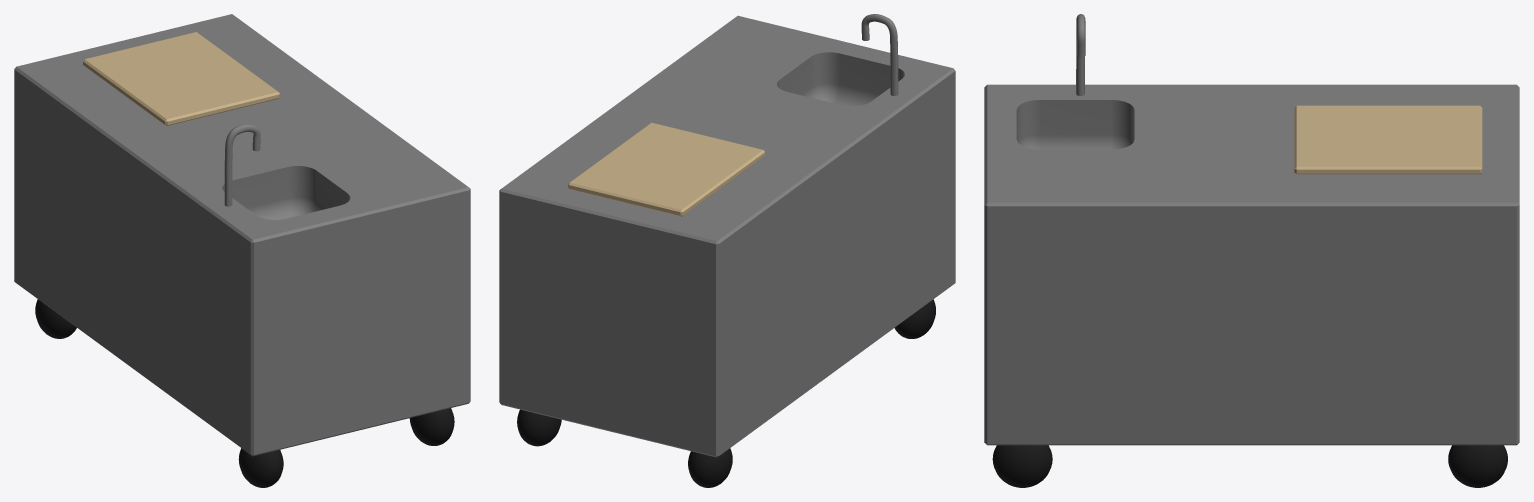
Rendered from Metal_counter.fbx.
3 views of the same model, side by side, from view 1: azimuth 30°, elevation 25°; view 2: azimuth 150°, elevation 25°; view 3: azimuth 270°, elevation 25° (orthographic). The views are drawn at different scales.
Parts seen in each view (by area): view 1: pCube3, pCube4, pSphere4, pSphere1, extrudedSurface1, pSphere3; view 2: pCube3, pCube4, pSphere3, pSphere2, extrudedSurface1, pSphere4; view 3: pCube3, pCube4, pSphere1, pSphere2, extrudedSurface1.
Part boxes in pixels (box(x1,y1,x2,y2)): pCube3: box(14, 14, 470, 456); pCube4: box(83, 32, 280, 125); pSphere4: box(238, 448, 283, 487); pSphere1: box(409, 408, 454, 445); extrudedSurface1: box(224, 124, 260, 206); pSphere3: box(35, 299, 76, 338); pCube3: box(499, 15, 955, 457); pCube4: box(568, 122, 764, 216); pSphere3: box(688, 448, 732, 487); pSphere2: box(517, 409, 561, 446); extrudedSurface1: box(861, 14, 898, 95); pSphere4: box(894, 299, 935, 338); pCube3: box(984, 84, 1519, 445); pCube4: box(1294, 105, 1482, 174); pSphere1: box(992, 445, 1052, 487); pSphere2: box(1448, 445, 1507, 487); extrudedSurface1: box(1076, 14, 1085, 95).
Size of the model in its own units: 1.4 by 2.07 by 2.64.
